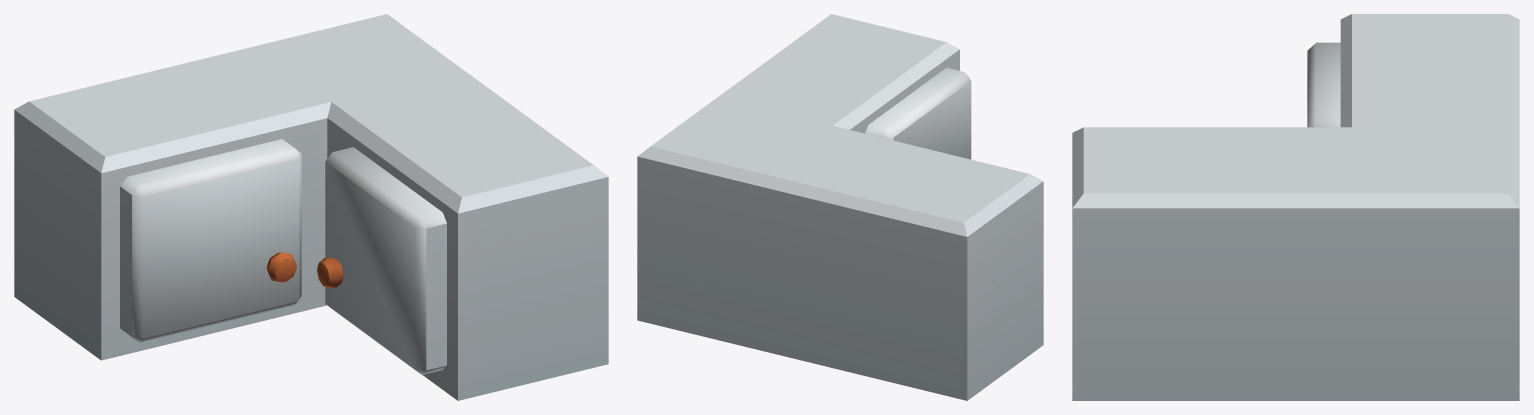
The model's file is cabinet_coner_half.glb.
The picture shows the model from 3 angles, left to right: view 1: azimuth 30°, elevation 25°; view 2: azimuth 150°, elevation 25°; view 3: azimuth 270°, elevation 25°; orthographic projection. The views are drawn at different scales.
Visible parts, largest first — view 1: kitchencabinet_corner_half; view 2: kitchencabinet_corner_half; view 3: kitchencabinet_corner_half.
Part boxes in pixels (x1,y1,x2,y2): kitchencabinet_corner_half: [14, 14, 608, 400]; kitchencabinet_corner_half: [637, 14, 1043, 400]; kitchencabinet_corner_half: [1072, 14, 1519, 400].
Size of the model in its own units: 2 by 1 by 2.
1 material, 1 textured.
